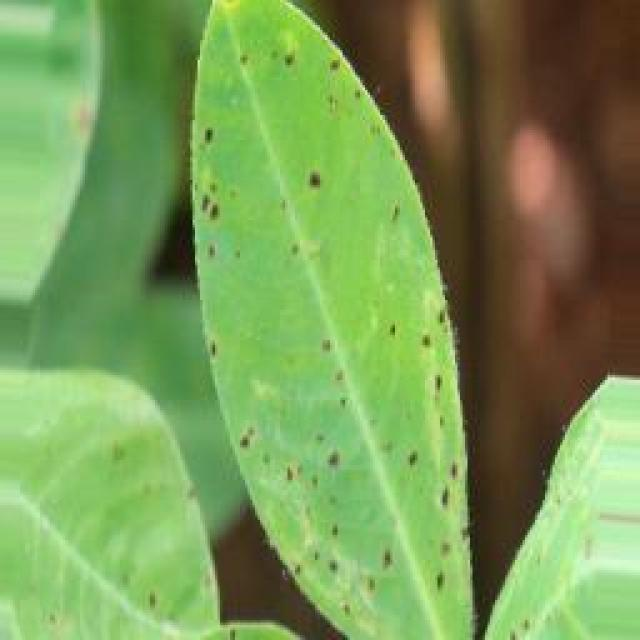Sigatoka: (236, 414, 304, 494), (292, 417, 356, 493), (178, 190, 235, 252), (190, 309, 234, 378), (192, 122, 234, 172)
